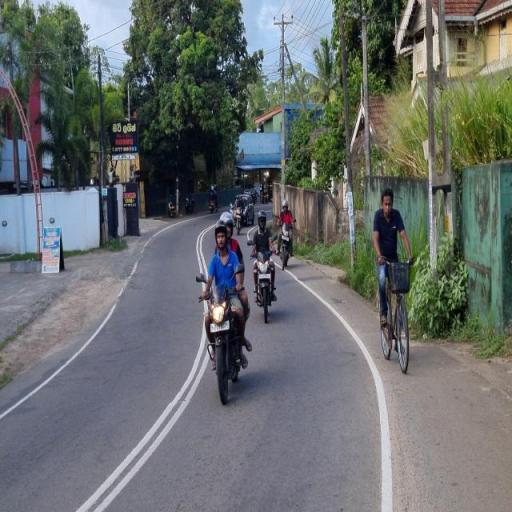double_white_line: (76, 336, 206, 510), (474, 1, 512, 28)
